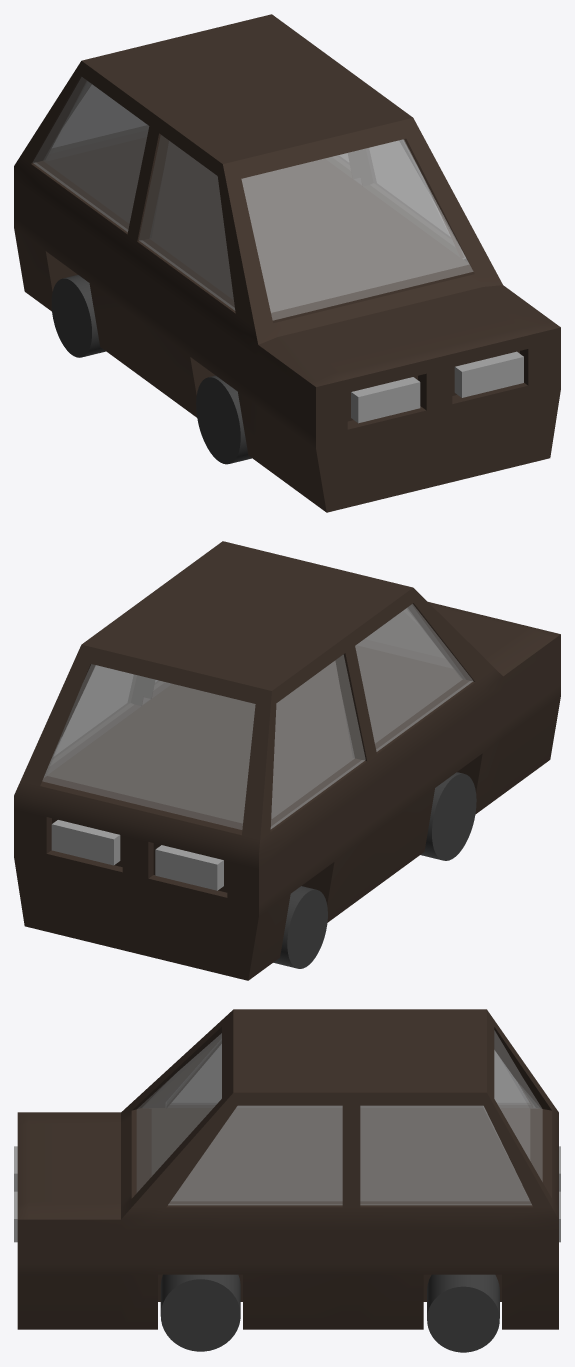
Rendered from car.fbx.
3 views of the same model, one above another, from view 1: azimuth 30°, elevation 25°; view 2: azimuth 150°, elevation 25°; view 3: azimuth 270°, elevation 25° (orthographic). The views are drawn at different scales.
Visible parts, largest first — view 1: pCube10; view 2: pCube10; view 3: pCube10.
Part boxes in pixels (<box>): pCube10: <box>14,14,560,512</box>; pCube10: <box>14,541,560,980</box>; pCube10: <box>14,1009,560,1352</box>.
Bounding box in the file's own units: 3.95 × 4.3 × 8.52.
